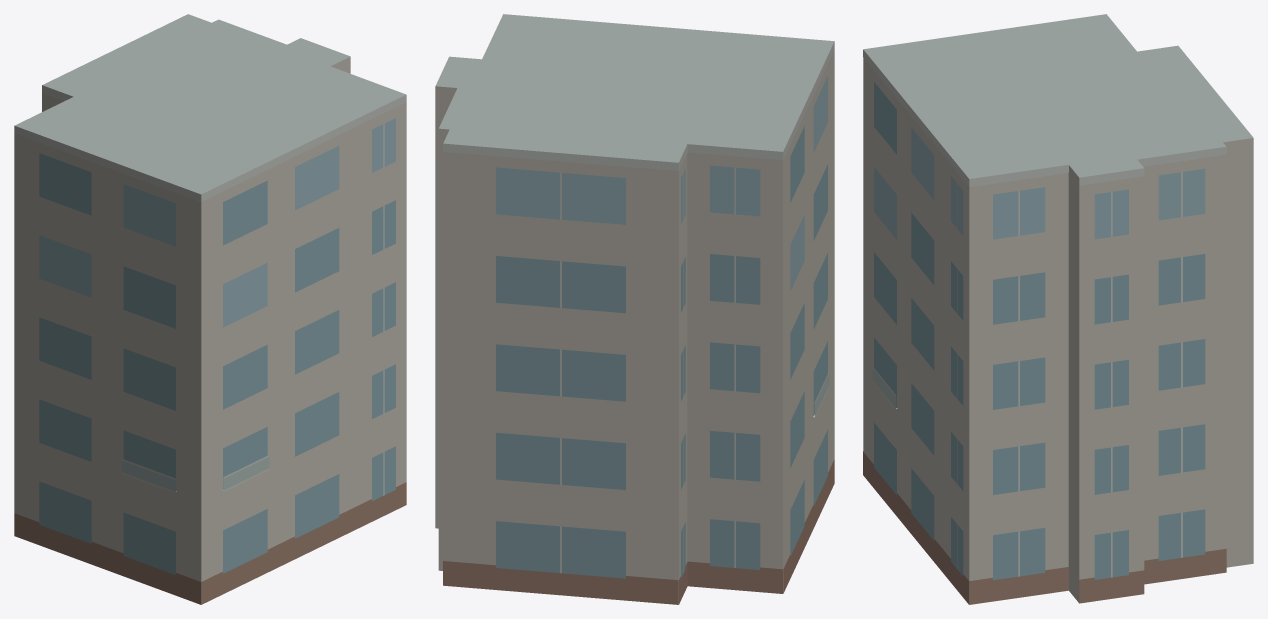
File: survey-upis-32613971.glb
3 views of the same model, side by side, from view 1: azimuth 30°, elevation 25°; view 2: azimuth 150°, elevation 25°; view 3: azimuth 270°, elevation 25° (orthographic). The views are drawn at different scales.
Parts seen in each view (by area): view 1: survey-upis-32613971.tmp; view 2: survey-upis-32613971.tmp; view 3: survey-upis-32613971.tmp.
Boxes of the visible parts, bbox=[...] form: survey-upis-32613971.tmp: bbox=[14, 14, 406, 604]; survey-upis-32613971.tmp: bbox=[435, 14, 834, 604]; survey-upis-32613971.tmp: bbox=[863, 14, 1253, 604].
Size of the model in its own units: 10.82 by 13 by 10.82.
